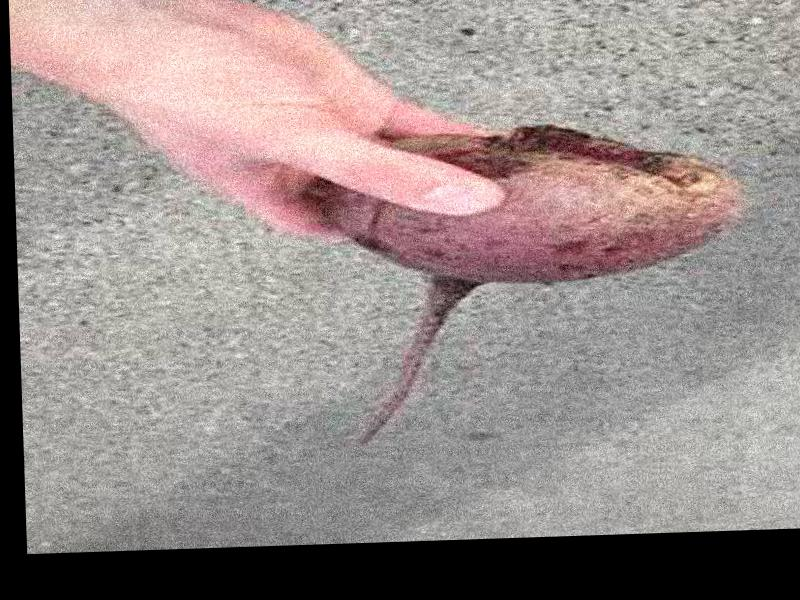Beet: (332, 119, 747, 443)
